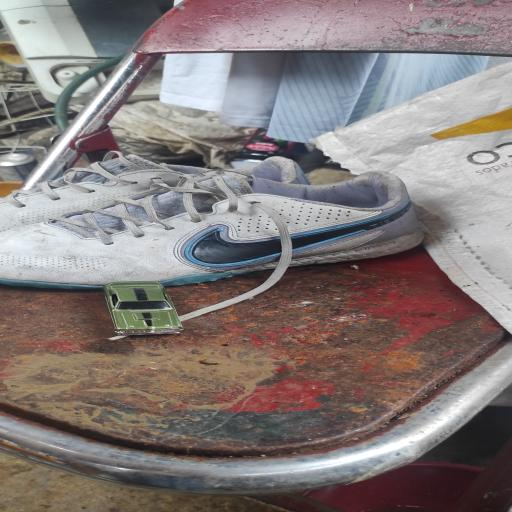Carrito: (104, 283, 182, 333)
